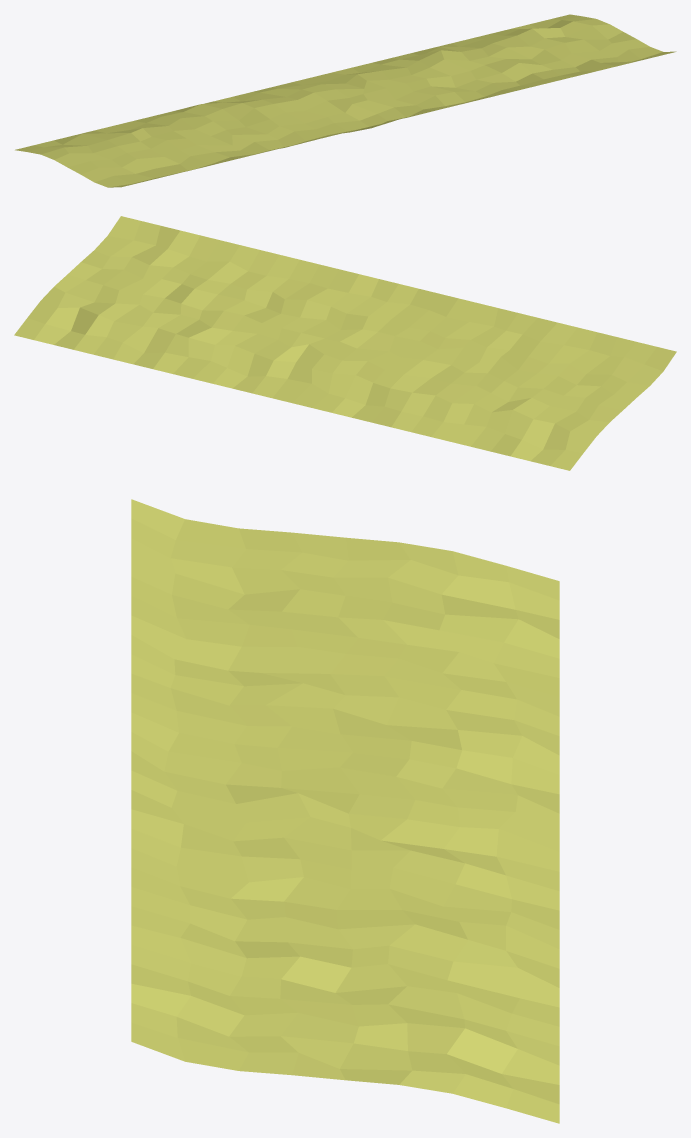
The model's file is Beach_1.fbx.
3 renders of one model, top to bottom at view 1: azimuth 30°, elevation 25°; view 2: azimuth 150°, elevation 25°; view 3: azimuth 270°, elevation 25°, orthographic. The views are drawn at different scales.
Parts seen in each view (by area): view 1: Beach; view 2: Beach; view 3: Beach.
Boxes of the visible parts, left/top/right/bottom form: Beach: left=15, top=14, right=676, bottom=187; Beach: left=14, top=216, right=676, bottom=470; Beach: left=131, top=499, right=559, bottom=1123.
Size of the model in its own units: 3000 by 211 by 1000.
